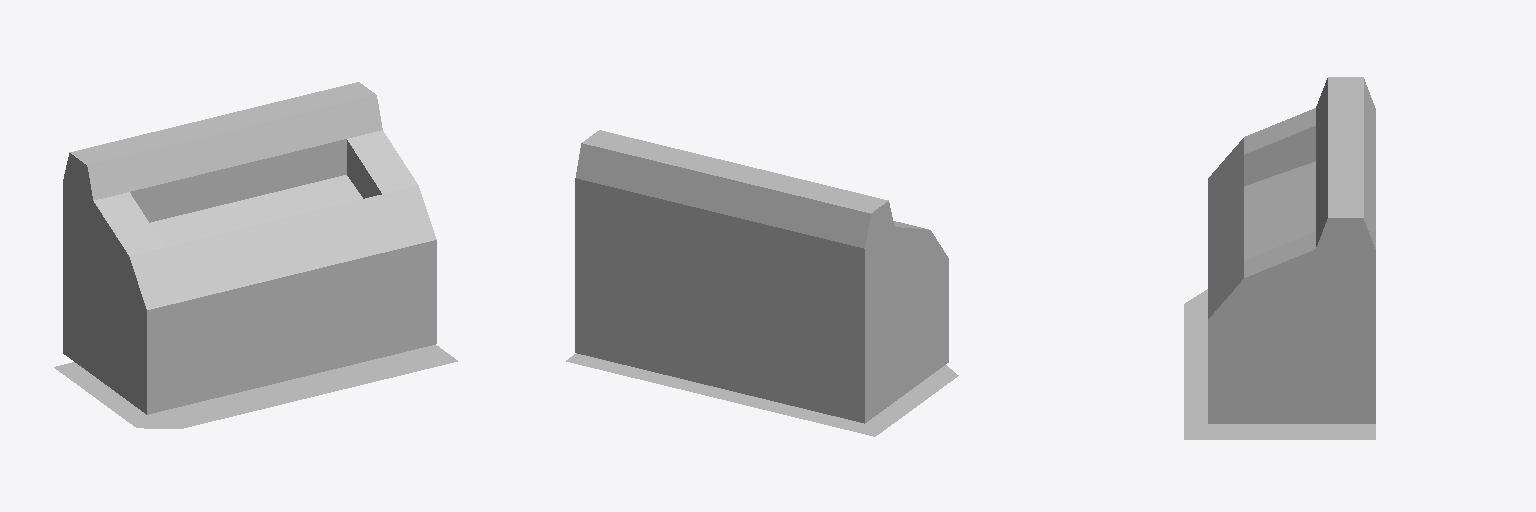
The model's file is Poke Mart Shelf 5.obj.
The picture shows the model from 3 angles: view 1: azimuth 30°, elevation 25°; view 2: azimuth 150°, elevation 25°; view 3: azimuth 270°, elevation 25°; orthographic projection.
Visible parts, largest first — view 1: polygon1, polygon0; view 2: polygon1, polygon0; view 3: polygon1, polygon0.
Part boxes in pixels (bbox=[...]): polygon1: bbox=[63, 82, 436, 414]; polygon0: bbox=[54, 345, 457, 428]; polygon1: bbox=[575, 130, 948, 423]; polygon0: bbox=[566, 353, 958, 436]; polygon1: bbox=[1208, 77, 1375, 423]; polygon0: bbox=[1184, 289, 1375, 439].
Size of the model in its own units: 30 by 20 by 16.